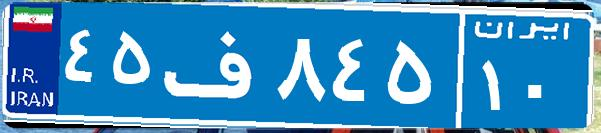0: (525, 38, 570, 115)
1: (475, 38, 525, 113)
4: (330, 28, 385, 110), (57, 26, 110, 107)
5: (385, 28, 445, 110), (110, 28, 158, 105)
8: (273, 28, 330, 110)
ف: (158, 15, 273, 115)
